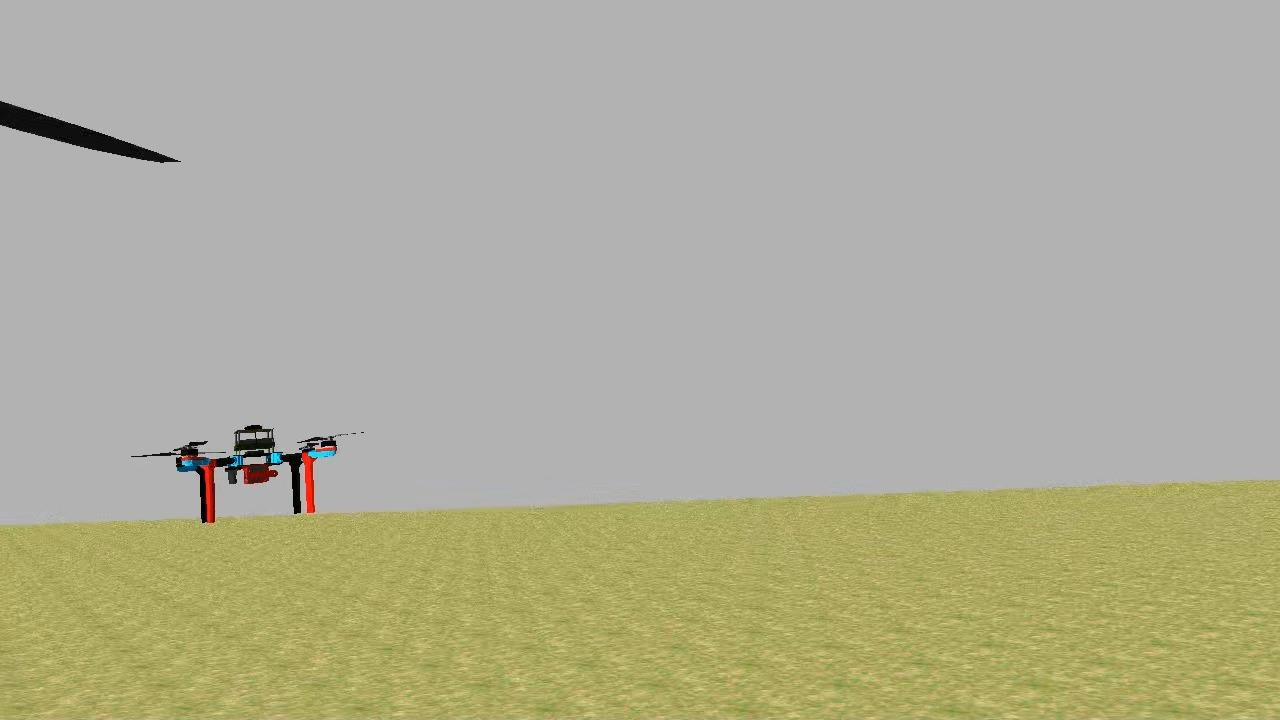UAV: (170, 416, 347, 530)
